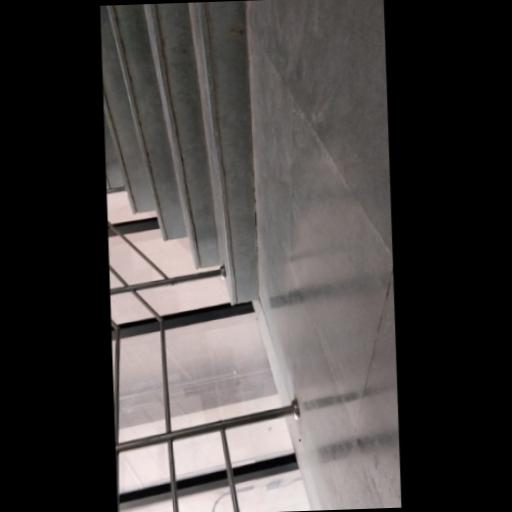stairs: (101, 1, 258, 302)
